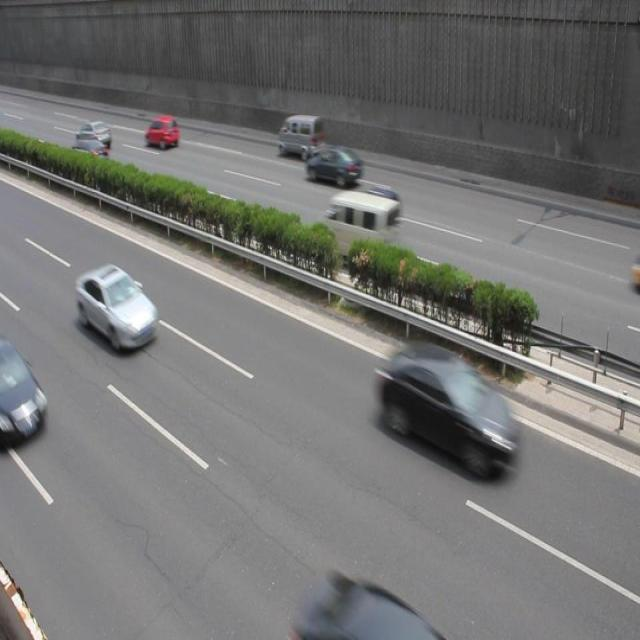car: (376, 342, 521, 482), (76, 265, 158, 354), (1, 344, 48, 448), (349, 186, 401, 234), (305, 144, 361, 188), (67, 138, 109, 175), (76, 118, 111, 150), (145, 116, 180, 148)
truck: (315, 189, 401, 278), (275, 113, 324, 161)
